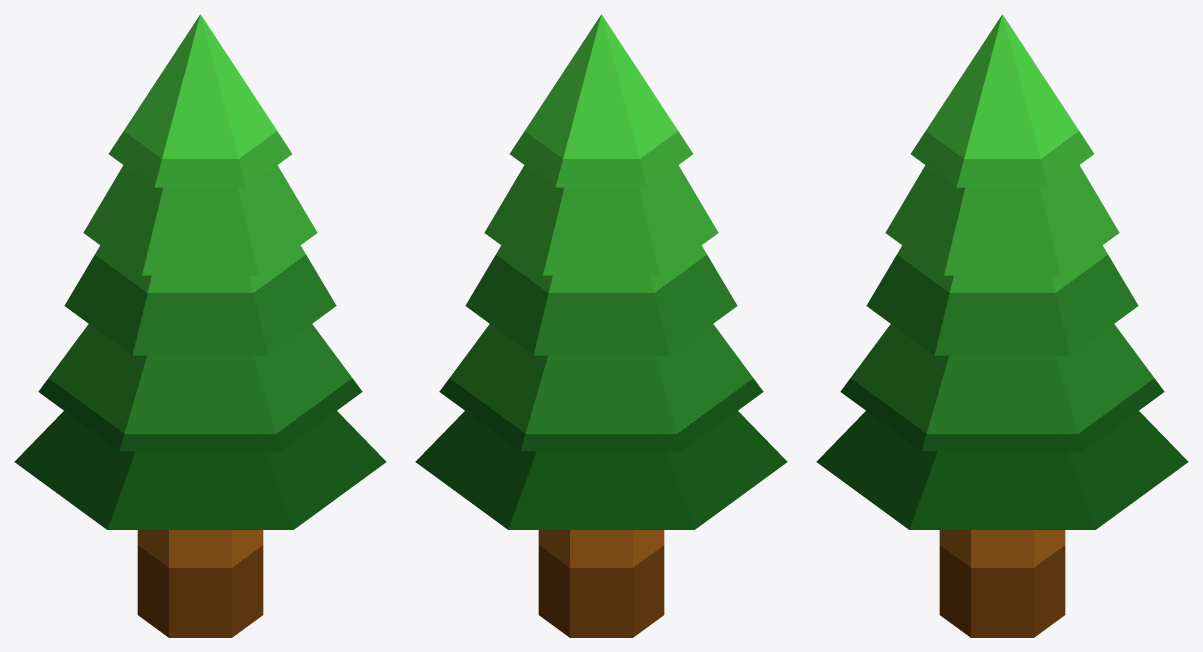
File: SpruceTree.fbx
3 renders of one model, left to right at view 1: azimuth 30°, elevation 25°; view 2: azimuth 150°, elevation 25°; view 3: azimuth 270°, elevation 25°, orthographic.
Visible parts, largest first — view 1: SpruceTree; view 2: SpruceTree; view 3: SpruceTree.
Boxes of the visible parts, x1,y1,x2,y2 form: SpruceTree: (14, 14, 386, 637); SpruceTree: (415, 14, 787, 637); SpruceTree: (816, 14, 1188, 637).
Bounding box in the file's own units: 53.22 × 109 × 61.45.
